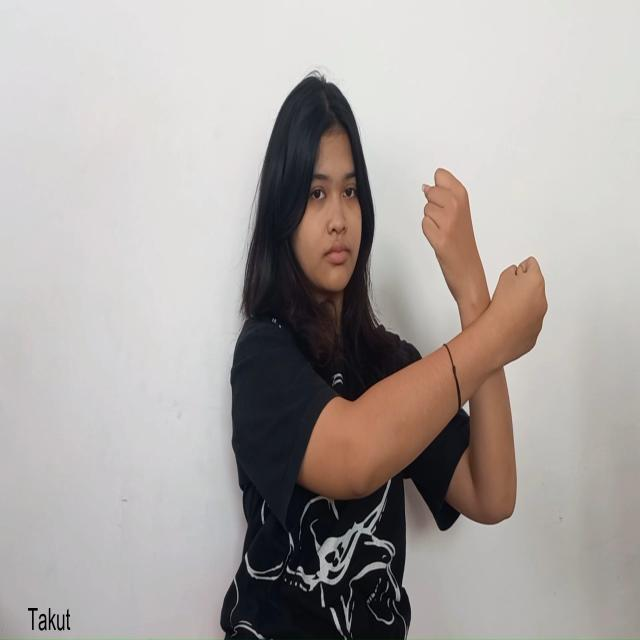Takut -BISINDO-: (422, 166, 548, 384)
